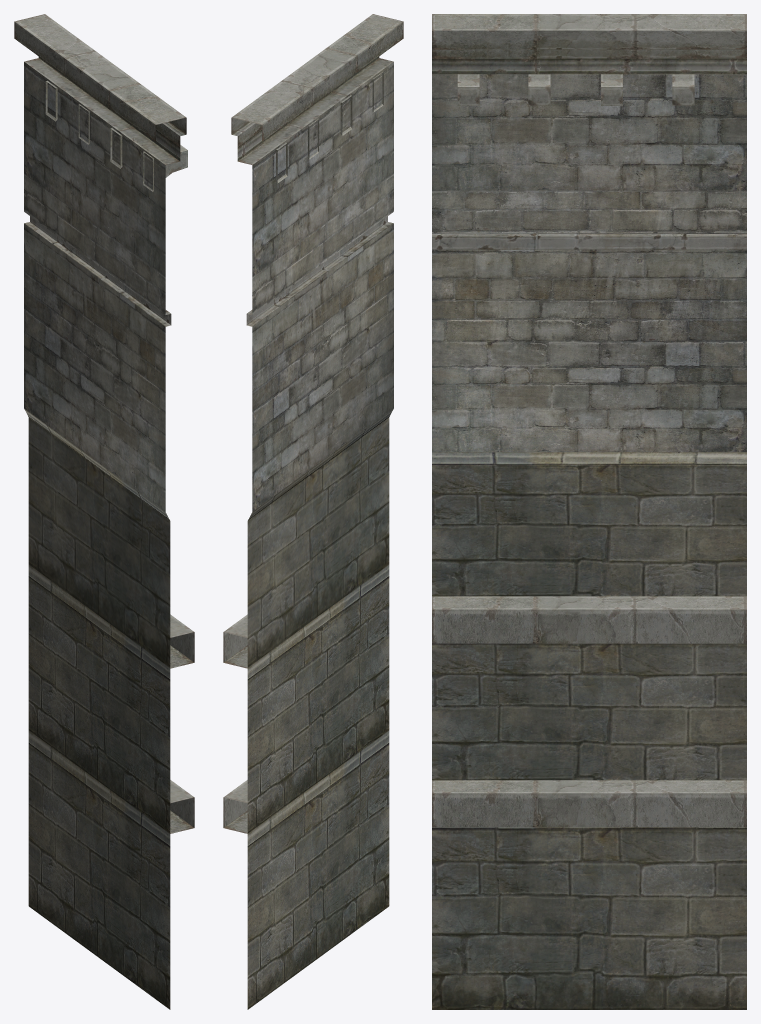
Rendered from bg_lut_lucastle_wall01a_sm_lkj.FBX.
3 views of the same model, side by side, from view 1: azimuth 30°, elevation 25°; view 2: azimuth 150°, elevation 25°; view 3: azimuth 270°, elevation 25° (orthographic). The views are drawn at different scales.
Parts seen in each view (by area): view 1: bg_lut_lucastle_wall01a_sm_lkj; view 2: bg_lut_lucastle_wall01a_sm_lkj; view 3: bg_lut_lucastle_wall01a_sm_lkj.
Boxes of the visible parts, x1,y1,x2,y2 form: bg_lut_lucastle_wall01a_sm_lkj: [14, 14, 194, 1009]; bg_lut_lucastle_wall01a_sm_lkj: [223, 14, 403, 1009]; bg_lut_lucastle_wall01a_sm_lkj: [432, 14, 746, 1009].
Size of the model in its own units: 68.45 by 1330 by 384.
